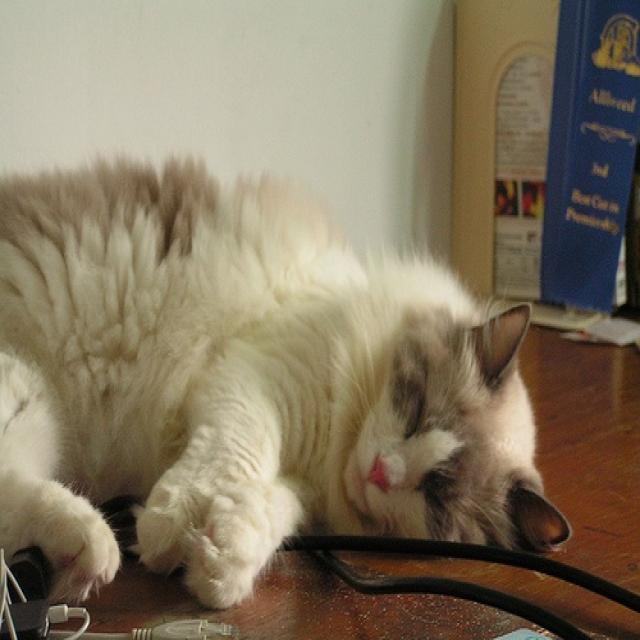cat: (1, 155, 572, 610)
